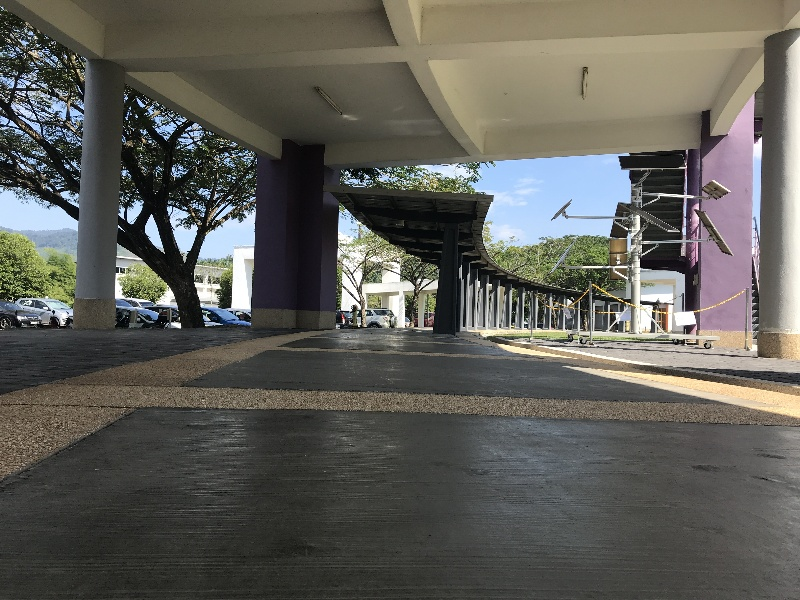pillar: (253, 135, 336, 333), (691, 96, 751, 350), (758, 30, 799, 363), (72, 52, 119, 335), (436, 216, 460, 335)
